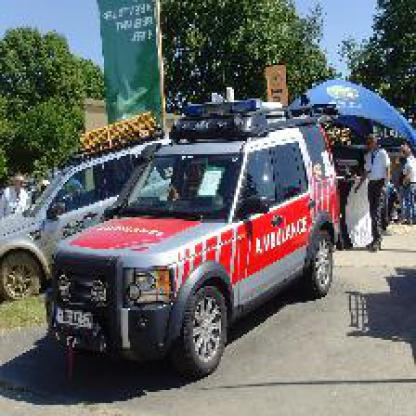emergency: (43, 98, 347, 379)
